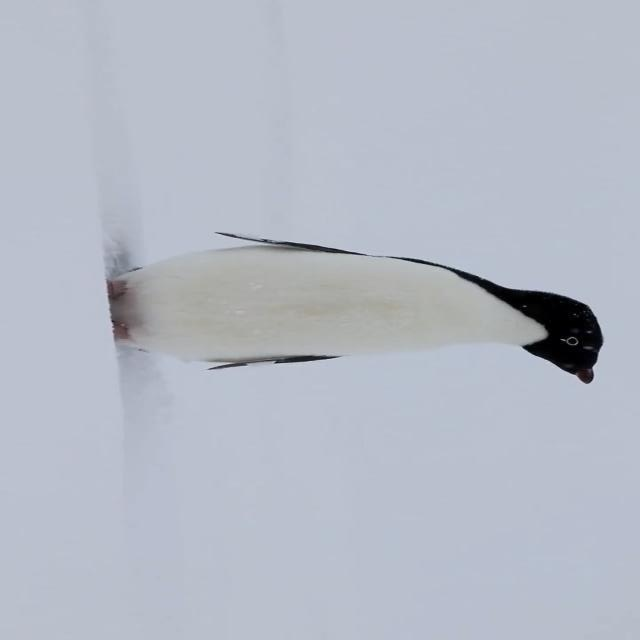penguin: (106, 229, 603, 387)
